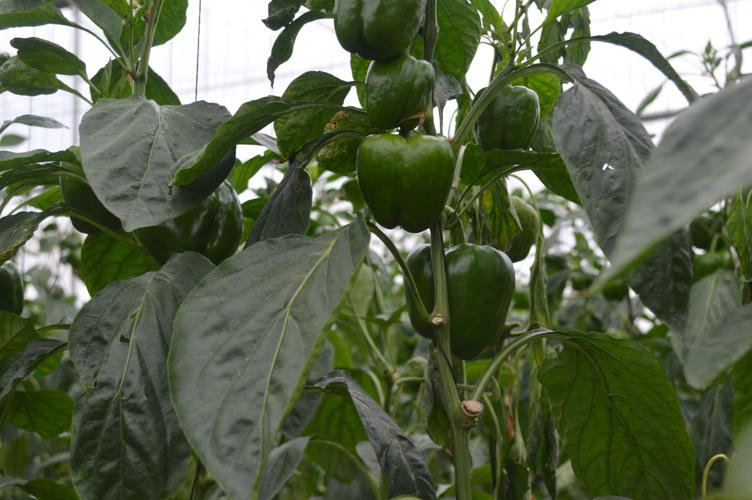BellPepper: (398, 245, 517, 356), (350, 131, 453, 230), (137, 181, 243, 261), (354, 54, 435, 129), (332, 2, 429, 59), (466, 83, 540, 152), (52, 152, 111, 234)
